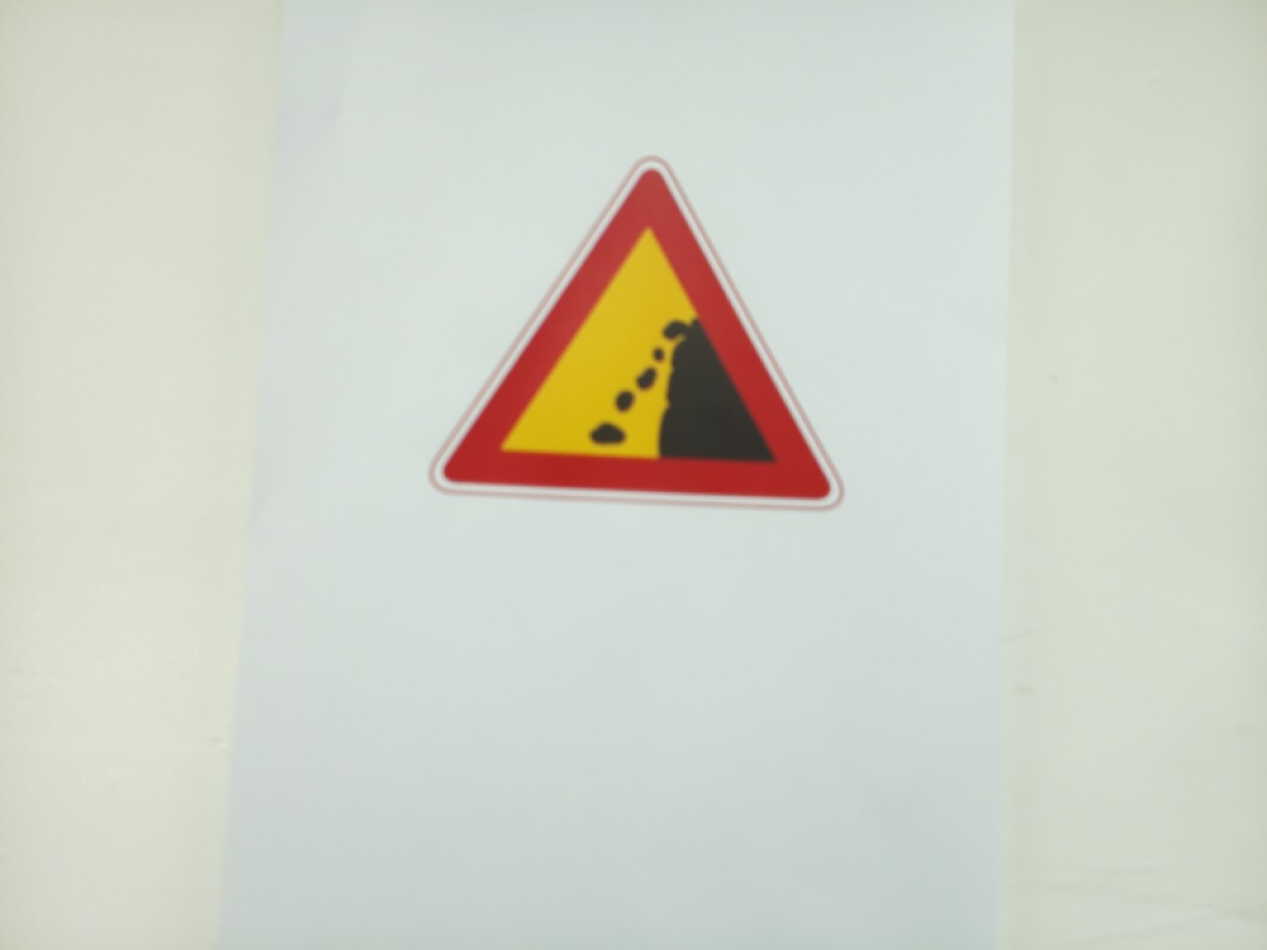falling_rocks: (433, 159, 841, 510)
